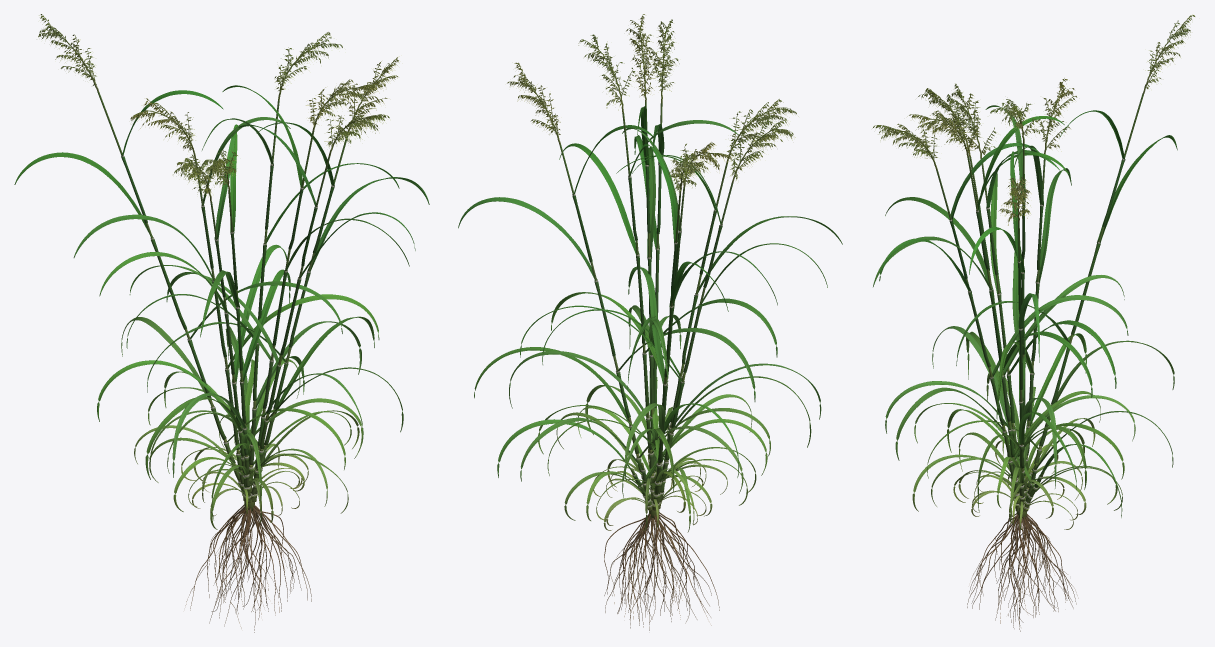
File: rice-heading.glb
3 views of the same model, side by side, from view 1: azimuth 30°, elevation 25°; view 2: azimuth 150°, elevation 25°; view 3: azimuth 270°, elevation 25° (orthographic). The views are drawn at different scales.
Visible parts, largest first — view 1: Tiller 6 · Leaf blade 6, Tiller 5 · Leaf blade 6, Tiller 8 · Leaf blade 7, Tiller 7 · Leaf blade 6, Tiller 7 · Leaf blade 5, Tiller 7 · Leaf blade 7, Tiller 2 · Leaf blade 5, Tiller 2 · Leaf blade 7, Tiller 5 · Leaf blade 5, Tiller 6 · Leaf blade 5; view 2: Tiller 8 · Leaf blade 6, Main culm · Leaf blade 7, Tiller 2 · Leaf blade 7, Tiller 2 · Leaf blade 5, Tiller 2 · Leaf blade 6, Tiller 3 · Leaf blade 7, Tiller 10 (late) · Leaf blade 5, Main culm · Leaf blade 5, Main culm · Leaf blade 6, Tiller 9 (late) · Leaf blade 5; view 3: Tiller 4 · Leaf blade 6, Tiller 7 · Leaf blade 7, Tiller 3 · Leaf blade 6, Tiller 5 · Leaf blade 7, Tiller 6 · Leaf blade 7, Tiller 4 · Leaf blade 5, Tiller 6 · Leaf blade 6, Tiller 5 · Leaf blade 5, Tiller 7 · Leaf blade 5, Tiller 3 · Flag leaf blade, Tiller 5 · Leaf blade 6, Tiller 3 · Leaf blade 5 (+4 smaller).
Boxes of the visible parts, x1,y1,x2,y2 form: Tiller 6 · Leaf blade 6: (232, 244, 287, 383); Tiller 5 · Leaf blade 6: (239, 269, 290, 382); Tiller 8 · Leaf blade 7: (14, 152, 152, 239); Tiller 7 · Leaf blade 6: (227, 294, 379, 369); Tiller 7 · Leaf blade 5: (97, 360, 232, 421); Tiller 7 · Leaf blade 7: (73, 214, 214, 280); Tiller 2 · Leaf blade 5: (275, 316, 374, 413); Tiller 2 · Leaf blade 7: (307, 177, 429, 273); Tiller 5 · Leaf blade 5: (172, 393, 246, 477); Tiller 6 · Leaf blade 5: (145, 397, 241, 479); Tiller 8 · Leaf blade 6: (628, 266, 667, 384); Main culm · Leaf blade 7: (559, 143, 639, 256); Tiller 2 · Leaf blade 7: (458, 197, 597, 282); Tiller 2 · Leaf blade 5: (474, 347, 630, 426); Tiller 2 · Leaf blade 6: (616, 328, 755, 401); Tiller 3 · Leaf blade 7: (647, 146, 655, 258); Tiller 10 (late) · Leaf blade 5: (497, 419, 635, 477); Main culm · Leaf blade 5: (509, 351, 647, 419); Main culm · Leaf blade 6: (644, 298, 777, 357); Tiller 9 (late) · Leaf blade 5: (520, 417, 643, 481); Tiller 4 · Leaf blade 6: (992, 295, 1128, 378); Tiller 7 · Leaf blade 7: (1035, 168, 1071, 283); Tiller 3 · Leaf blade 6: (1003, 275, 1124, 376); Tiller 5 · Leaf blade 7: (885, 197, 993, 291); Tiller 6 · Leaf blade 7: (990, 173, 1001, 295); Tiller 4 · Leaf blade 5: (895, 387, 1005, 460); Tiller 6 · Leaf blade 6: (1007, 320, 1116, 388); Tiller 5 · Leaf blade 5: (932, 326, 1011, 426); Tiller 7 · Leaf blade 5: (1030, 333, 1086, 426); Tiller 3 · Flag leaf blade: (977, 116, 1064, 212); Tiller 5 · Leaf blade 6: (1003, 331, 1092, 397); Tiller 3 · Leaf blade 5: (885, 381, 1011, 433).
Bounding box in the file's own units: 1.01 × 1.57 × 0.846.
